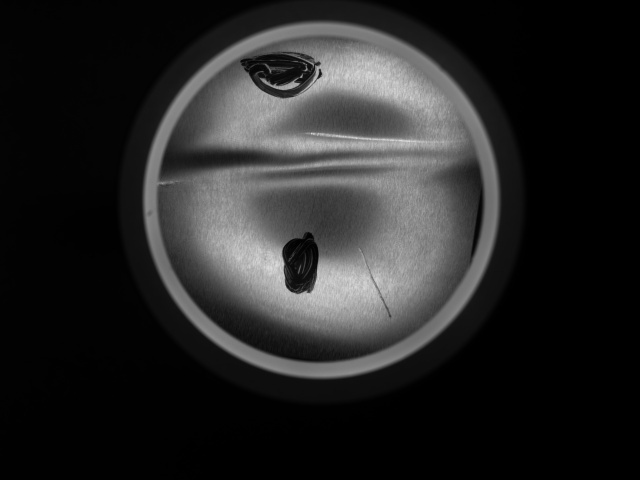ca_shang: (353, 240, 396, 317)
zang_wu: (235, 49, 326, 102), (281, 227, 326, 298)
zhe_zhou: (197, 71, 446, 326)
